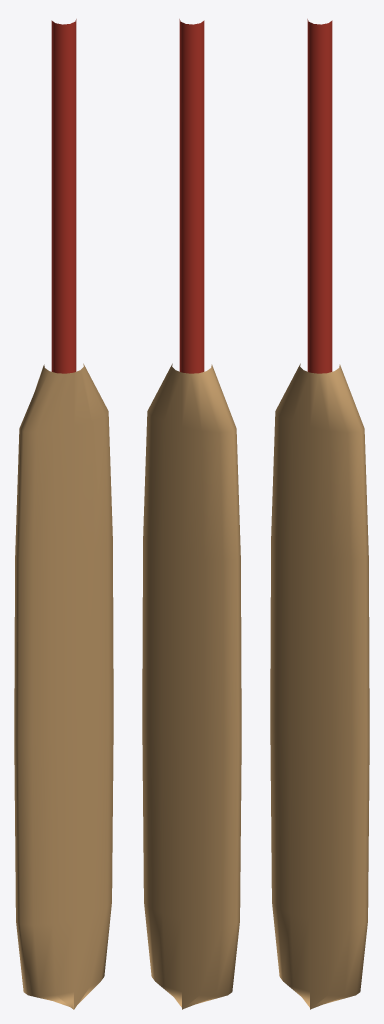
The model's file is bat_backyard_ash_01_v1.glb.
3 renders of one model, left to right at view 1: azimuth 30°, elevation 25°; view 2: azimuth 150°, elevation 25°; view 3: azimuth 330°, elevation 25°, orthographic.
Parts seen in each view (by area): view 1: Bat_Blade, Bat_Handle; view 2: Bat_Blade, Bat_Handle; view 3: Bat_Blade, Bat_Handle.
Boxes of the visible parts, left/top/right/bottom form: Bat_Blade: left=14, top=363, right=113, bottom=1009; Bat_Handle: left=51, top=19, right=76, bottom=373; Bat_Blade: left=142, top=363, right=241, bottom=1009; Bat_Handle: left=179, top=19, right=204, bottom=373; Bat_Blade: left=270, top=363, right=369, bottom=1009; Bat_Handle: left=307, top=19, right=332, bottom=373.
Size of the model in its own units: 0.1092 by 1.08 by 0.04.
